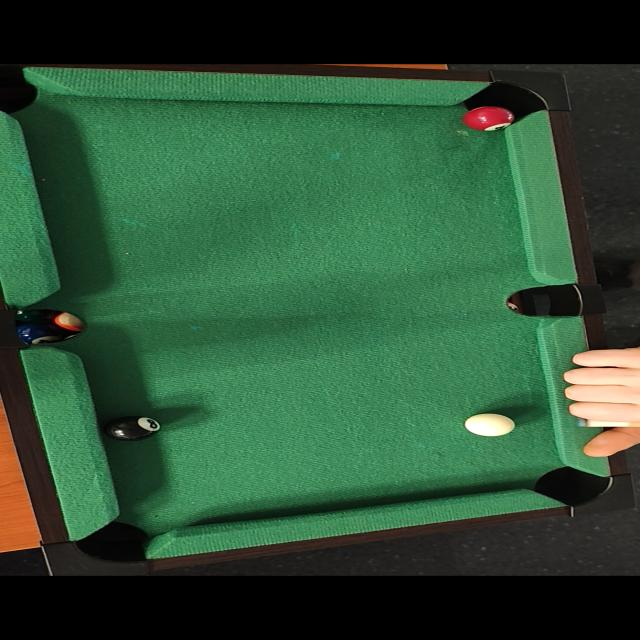cue ball: (460, 411, 516, 439)
other: (94, 415, 164, 442), (458, 105, 518, 134)
